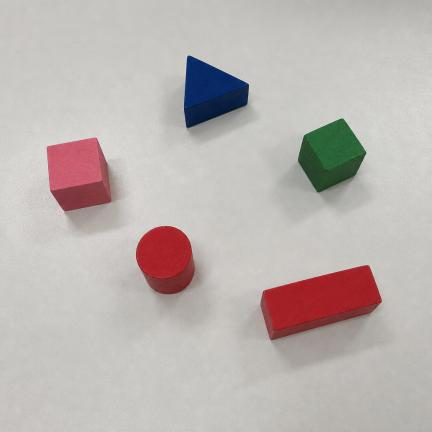BuildingBlocks: (261, 266, 381, 340), (299, 119, 365, 191), (47, 138, 111, 210), (184, 57, 248, 127), (137, 227, 194, 294)
